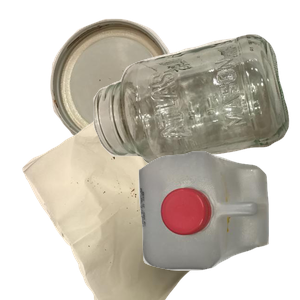glass: (91, 32, 300, 189)
metal: (47, 16, 214, 157)
plastic: (136, 149, 300, 300)
trash: (20, 120, 260, 300)
